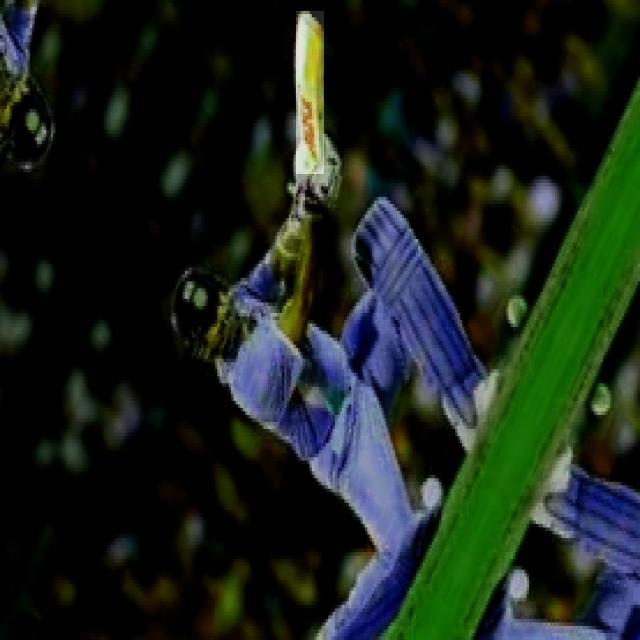bat: (295, 6, 326, 174)
toe: (299, 11, 323, 36)
